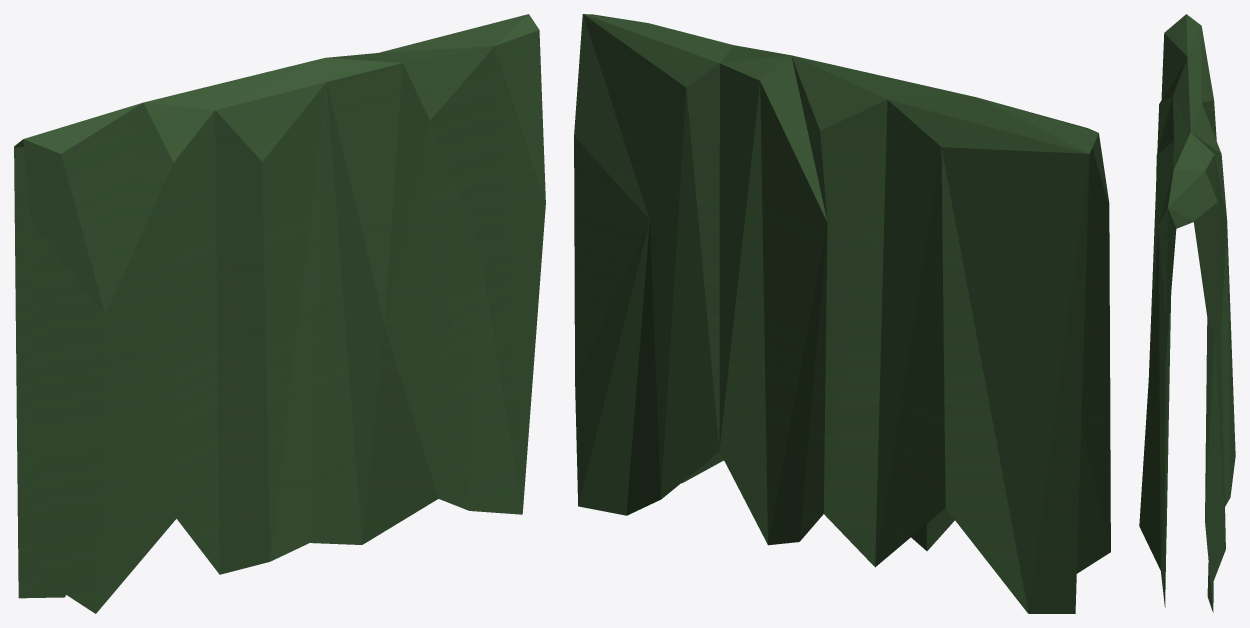
Rendered from Cloth_1B.fbx.
3 renders of one model, left to right at view 1: azimuth 30°, elevation 25°; view 2: azimuth 150°, elevation 25°; view 3: azimuth 270°, elevation 25°, orthographic. The views are drawn at different scales.
Parts seen in each view (by area): view 1: polySurface10643; view 2: polySurface10643; view 3: polySurface10643.
Boxes of the visible parts, <box> form: polySurface10643: <box>14,14,545,613</box>; polySurface10643: <box>574,14,1110,613</box>; polySurface10643: <box>1139,14,1235,612</box>.
Size of the model in its own units: 197 by 180 by 38.9.
